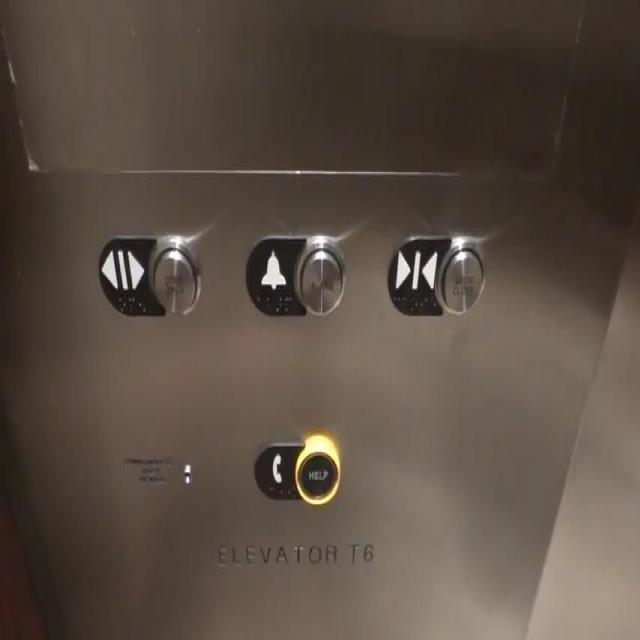alarm: (244, 229, 348, 316)
call: (252, 428, 338, 513)
close: (386, 229, 489, 315)
open: (96, 229, 205, 320)
